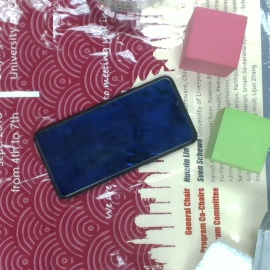phone: (34, 76, 197, 198)
